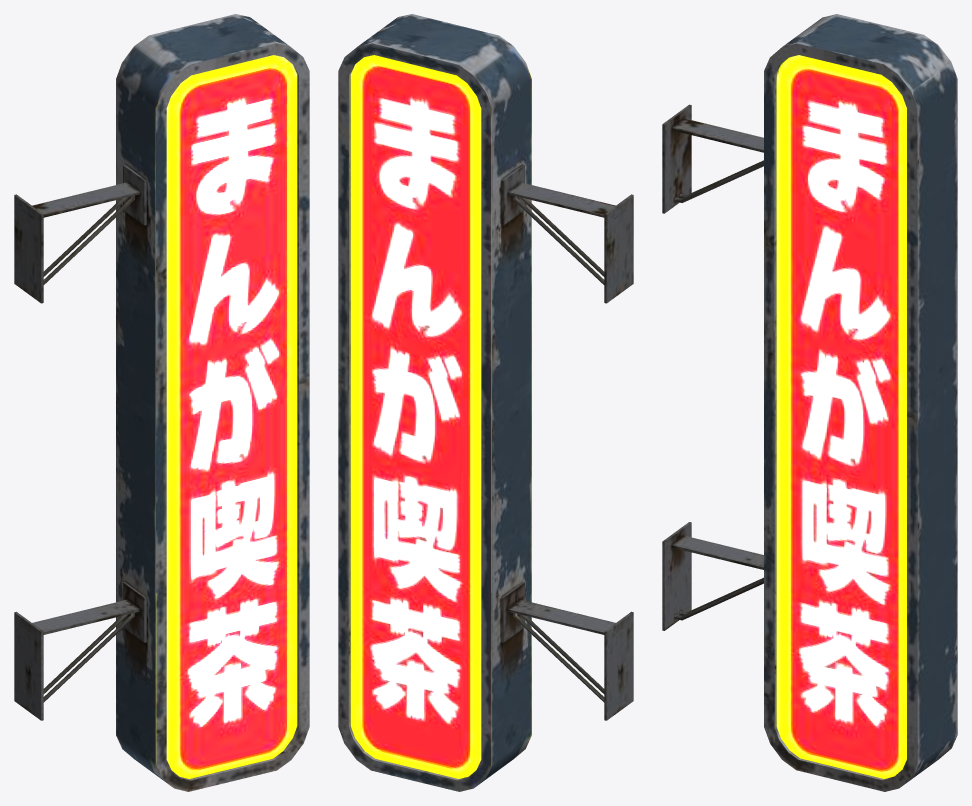
Rendered from sign_board.glb.
3 views of the same model, side by side, from view 1: azimuth 30°, elevation 25°; view 2: azimuth 150°, elevation 25°; view 3: azimuth 330°, elevation 25° (orthographic).
Visible parts, largest first — view 1: quickmaterial1; view 2: quickmaterial1; view 3: quickmaterial1.
Boxes of the visible parts, x1,y1,x2,y2 form: quickmaterial1: (14,14,309,791); quickmaterial1: (338,14,633,791); quickmaterial1: (662,14,957,791).
Bounding box in the file's own units: 2.14 × 5.67 × 0.568.
1 material, 1 textured.
